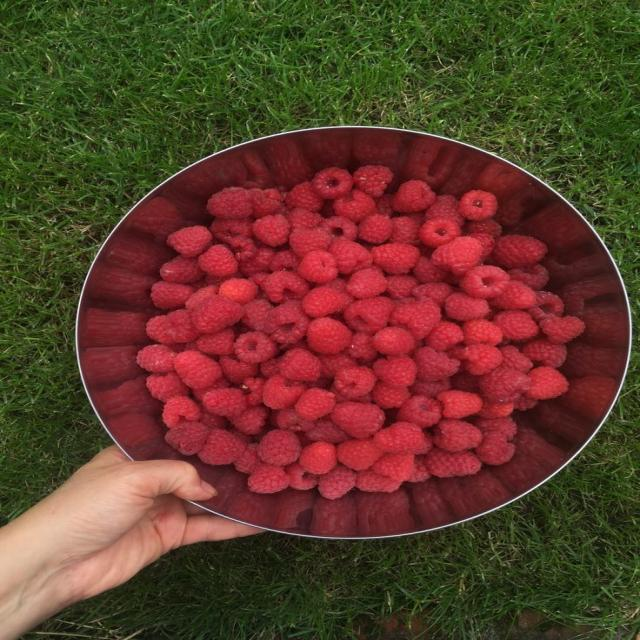raspberry: (96, 376, 158, 442), (562, 376, 617, 420), (83, 346, 140, 384), (514, 428, 565, 469), (191, 295, 244, 333), (391, 299, 441, 339), (331, 402, 385, 439), (264, 301, 308, 345), (432, 237, 482, 275), (480, 365, 530, 402), (344, 297, 394, 334), (374, 423, 432, 454), (174, 351, 222, 388), (493, 235, 546, 268), (199, 429, 246, 465), (307, 318, 352, 354), (460, 265, 509, 298), (426, 448, 481, 477), (434, 419, 482, 452), (258, 430, 301, 466), (329, 239, 372, 274), (371, 243, 419, 274), (166, 421, 208, 455), (263, 375, 305, 409), (279, 348, 321, 382), (262, 271, 308, 302), (207, 188, 253, 219), (415, 348, 459, 380), (337, 440, 382, 471), (167, 226, 212, 257), (334, 190, 376, 223), (397, 396, 441, 427), (527, 366, 568, 399), (393, 181, 436, 212), (289, 228, 333, 258), (298, 251, 338, 284), (494, 310, 538, 340), (334, 366, 376, 397), (318, 465, 356, 499), (374, 356, 417, 386), (234, 332, 277, 362), (312, 168, 353, 199), (491, 281, 536, 309), (147, 372, 189, 402), (476, 432, 514, 465), (295, 388, 334, 420), (198, 245, 238, 276), (463, 344, 503, 375), (438, 390, 482, 418), (247, 464, 289, 493), (162, 396, 200, 428), (540, 316, 585, 343), (354, 166, 393, 197), (347, 267, 386, 298), (523, 339, 566, 367), (371, 453, 414, 481), (203, 388, 246, 416), (165, 310, 201, 343), (253, 214, 289, 247), (300, 442, 337, 474), (426, 195, 464, 226), (151, 281, 193, 309), (160, 256, 203, 283), (373, 327, 414, 355), (285, 181, 323, 211), (420, 219, 460, 247), (460, 190, 497, 220), (528, 291, 564, 321), (426, 321, 463, 350), (231, 406, 268, 435), (137, 345, 175, 373), (372, 381, 410, 409), (462, 319, 502, 345), (509, 264, 549, 290), (356, 470, 401, 493), (306, 420, 349, 444), (196, 328, 234, 355), (358, 214, 393, 243), (219, 278, 258, 304), (210, 219, 252, 243), (412, 282, 453, 306), (240, 247, 275, 275), (191, 378, 230, 403), (250, 189, 283, 218), (476, 417, 517, 440), (320, 353, 357, 378), (413, 256, 447, 283), (320, 216, 358, 240), (285, 463, 317, 491), (500, 346, 533, 373), (348, 333, 377, 363), (185, 285, 219, 310), (275, 409, 313, 431), (287, 208, 323, 231), (146, 316, 175, 344), (391, 216, 421, 243), (234, 443, 260, 474), (410, 378, 452, 397), (327, 277, 353, 306), (228, 237, 258, 262), (387, 275, 418, 299), (465, 218, 502, 237), (479, 398, 514, 418), (469, 234, 494, 262), (269, 250, 299, 272), (244, 377, 266, 407), (407, 456, 431, 482), (452, 372, 479, 394), (334, 388, 373, 403), (199, 411, 227, 429), (374, 194, 393, 216), (514, 395, 538, 411)
